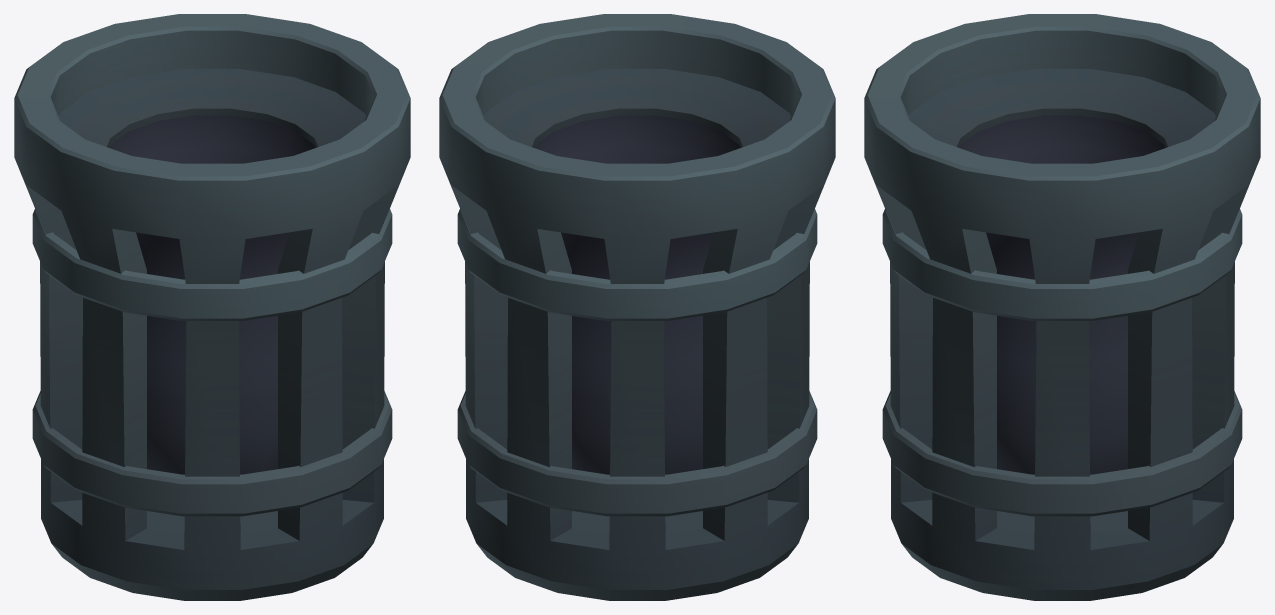
Rendered from Trashbin_1_4.fbx.
3 renders of one model, left to right at view 1: azimuth 30°, elevation 25°; view 2: azimuth 150°, elevation 25°; view 3: azimuth 270°, elevation 25°, orthographic.
Parts seen in each view (by area): view 1: Trashbin_1_4; view 2: Trashbin_1_4; view 3: Trashbin_1_4.
Part boxes in pixels (x1,y1,x2,y2): Trashbin_1_4: (14,14,410,600); Trashbin_1_4: (439,14,835,600); Trashbin_1_4: (864,14,1260,600).
Bounding box in the file's own units: 0.7006 × 0.8694 × 0.7112.
